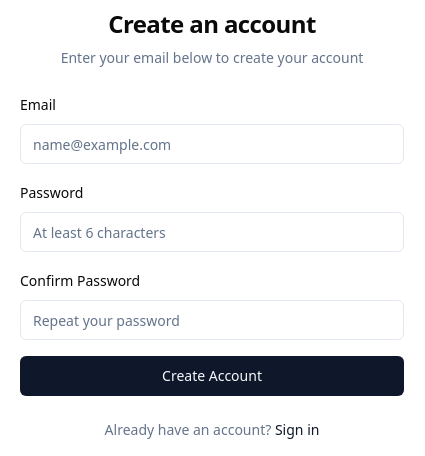
Test: Register Page › shows success message after registration
This screenshot has width=425, height=456.
Type "new@example.com" into the field labelled "Email" at {"x": 212, "y": 144}, box [20,124,404,164]
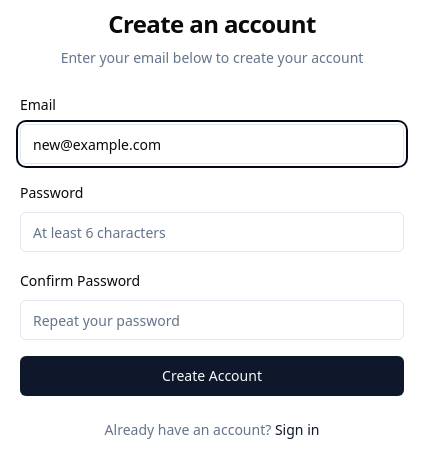
Type "password123" into the password field labelled "Password" at {"x": 212, "y": 232}, box [20,212,404,252]
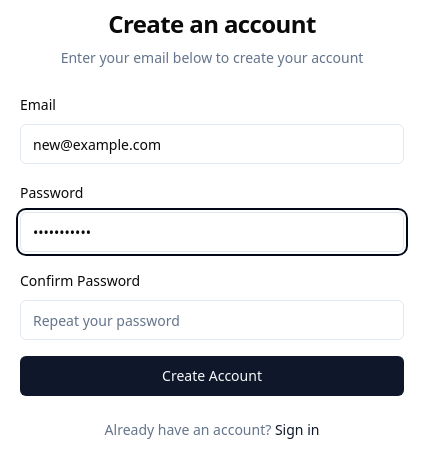
Type "password123" into the password field labelled "Confirm Password" at {"x": 212, "y": 320}, box [20,300,404,340]
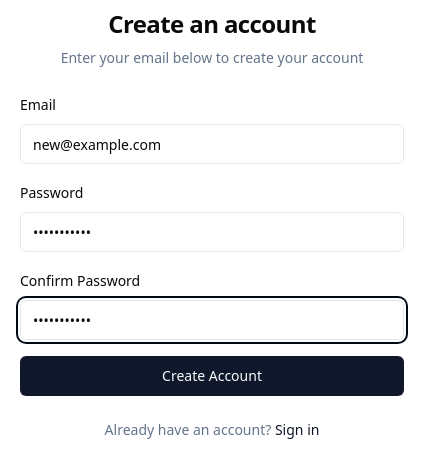
Click the button "Create Account" at {"x": 212, "y": 376}, box [20,356,404,396]
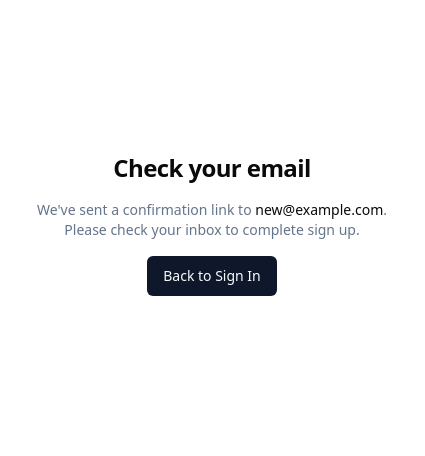
Check: the heading "Check your email" is shown, box [113,151,311,184]
